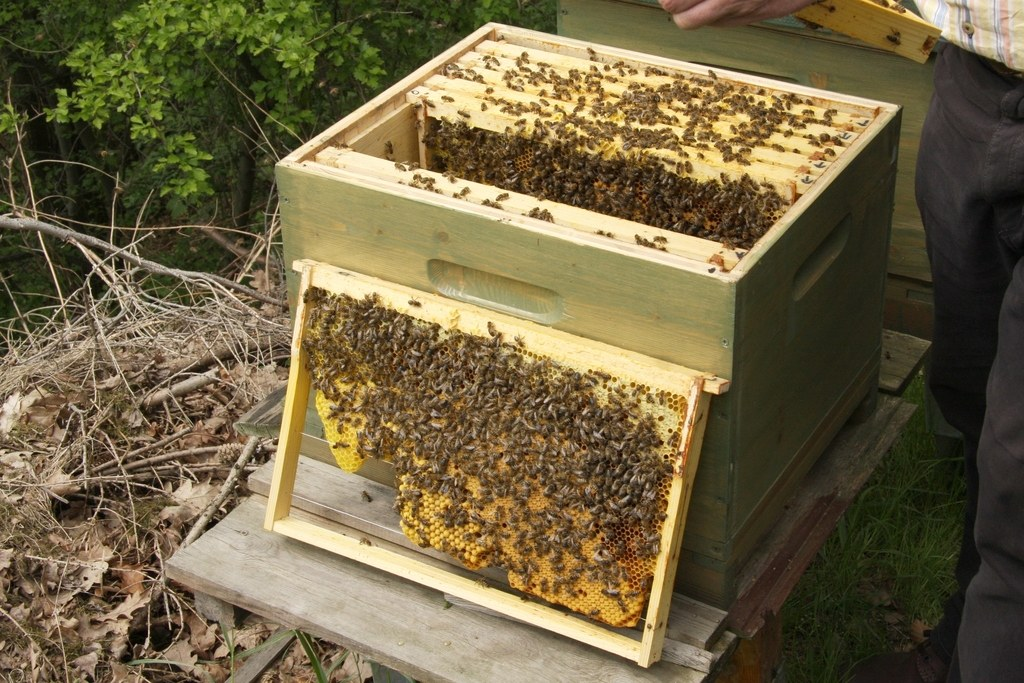bee: (271, 16, 906, 668), (292, 275, 688, 605), (314, 309, 685, 629), (407, 37, 853, 274), (429, 124, 781, 245), (495, 190, 509, 200)
insect: (308, 293, 687, 630)
